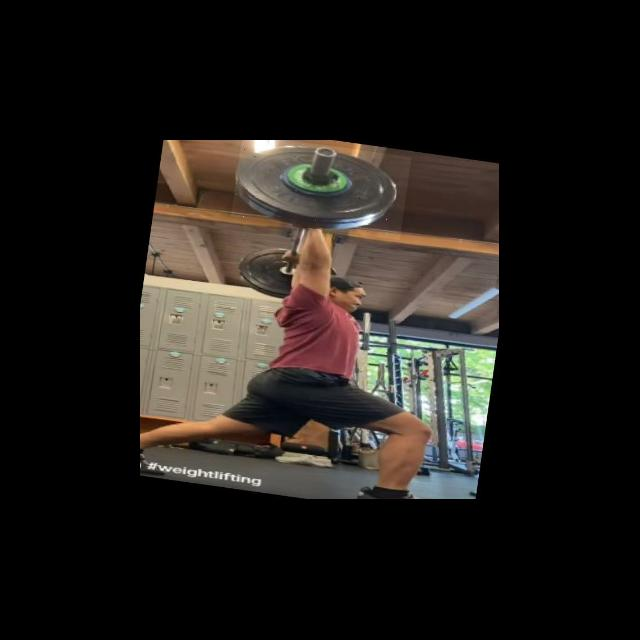barbell: (231, 140, 412, 240)
